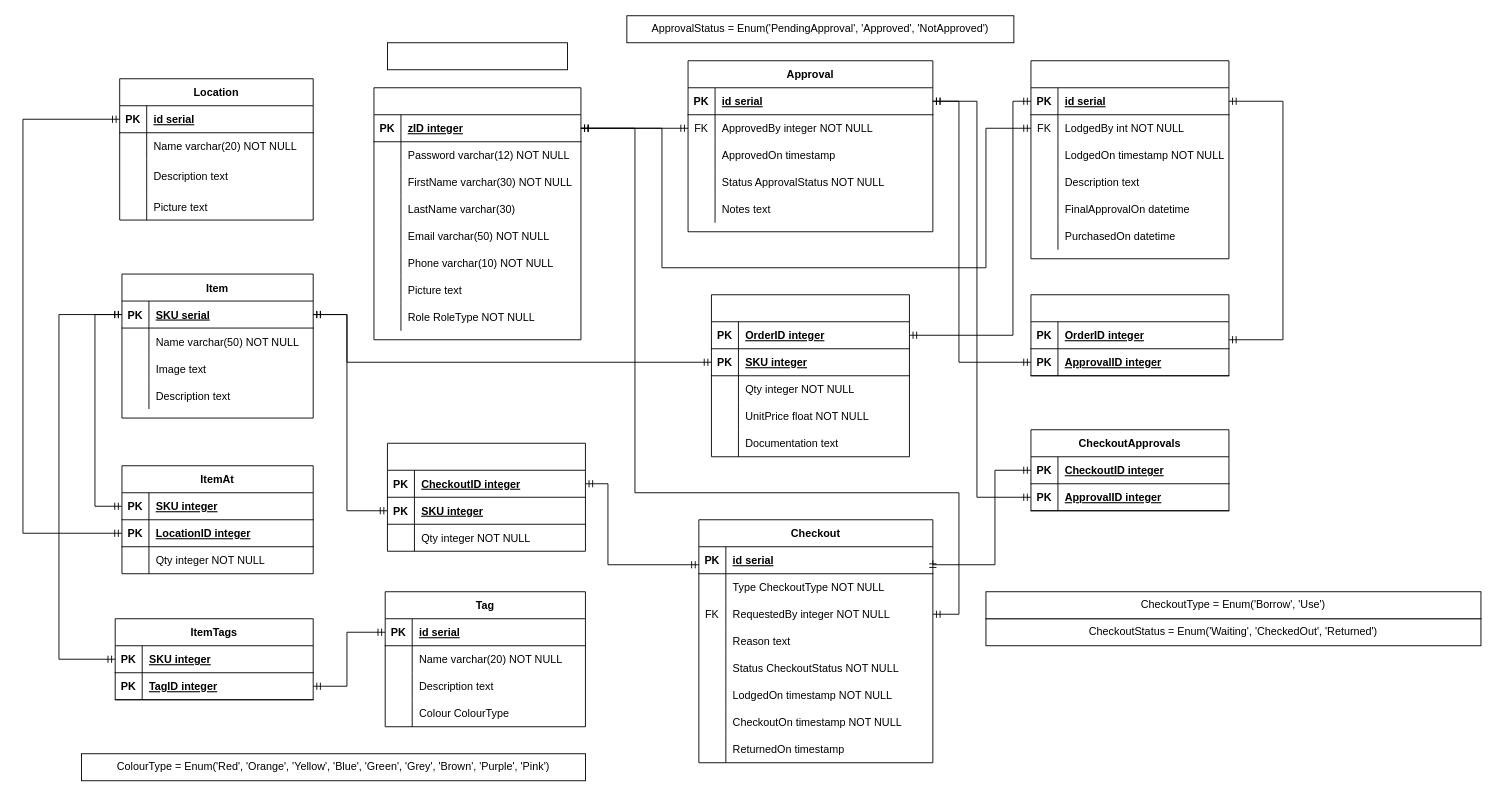
Some shapes in this 1497 by 797 pixel diagram are drawn without their labels. The box of each missing label's shape, as (x1, y1, x2, y2) in pixels:
CheckoutSummary: (387, 442, 585, 551)
OrderApprovals: (1030, 294, 1229, 376)
Orders: (1030, 60, 1229, 259)
OrderSummary: (711, 294, 909, 457)
Person: (373, 87, 581, 340)
RoleType = Enum('Admin', 'Member'): (387, 42, 567, 70)
